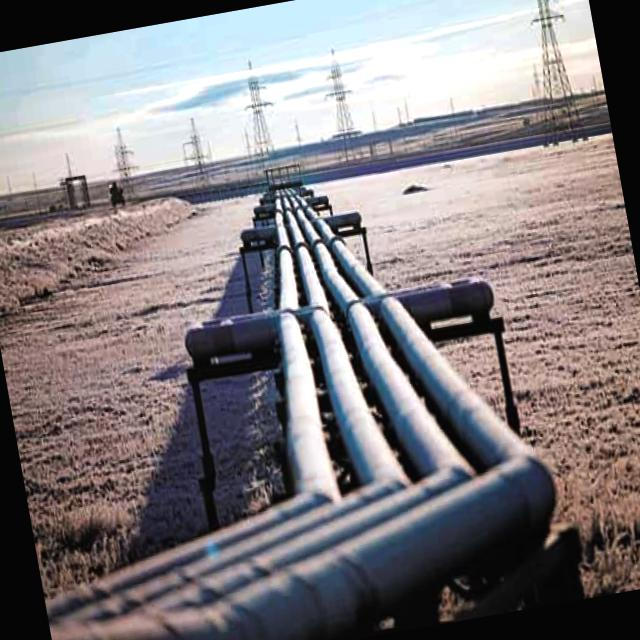gas: (35, 458, 560, 640), (372, 266, 552, 496), (40, 492, 326, 614), (338, 290, 471, 486), (304, 299, 408, 495), (268, 308, 338, 500), (292, 170, 383, 299), (256, 180, 305, 321), (278, 186, 329, 306)
